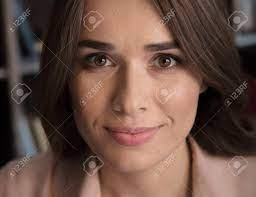e.brown: (94, 55, 107, 65)
